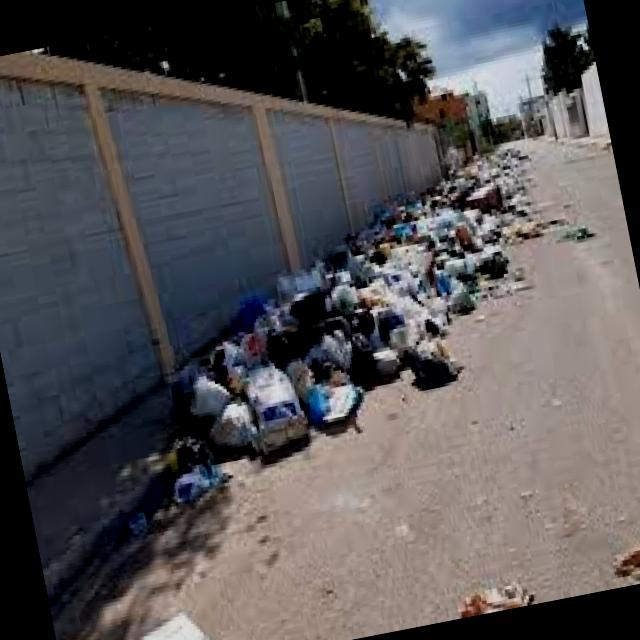garbage: (129, 147, 543, 462)
